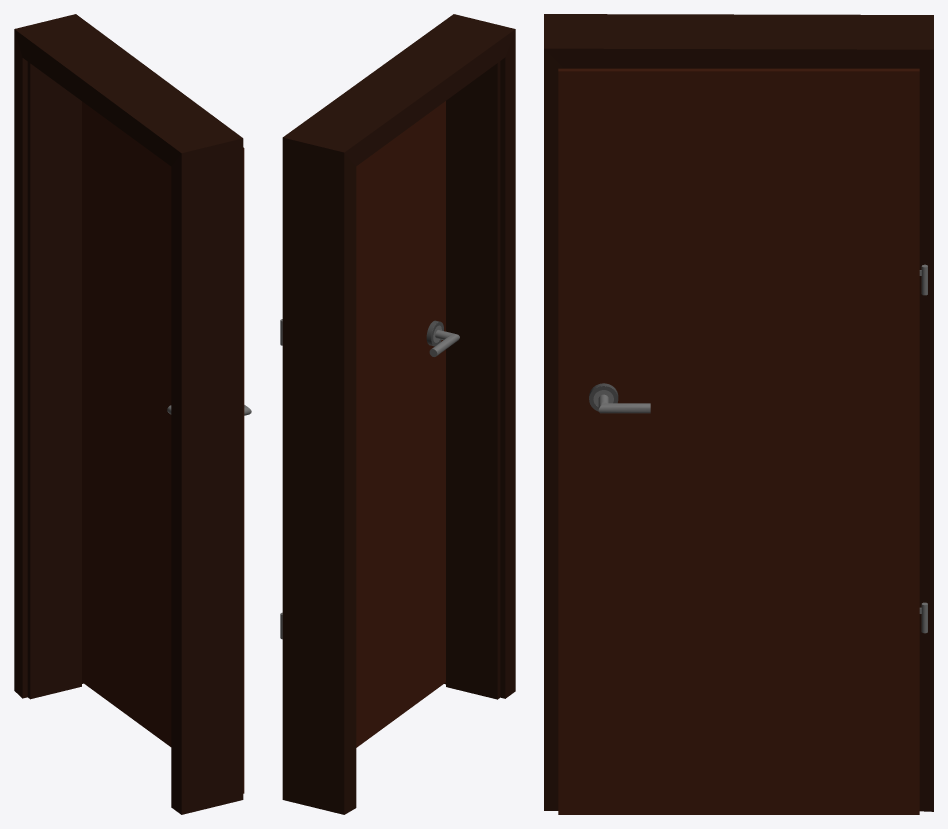
Rendered from door.obj.
The picture shows the model from 3 angles, left to right: view 1: azimuth 30°, elevation 25°; view 2: azimuth 150°, elevation 25°; view 3: azimuth 270°, elevation 25°; orthographic projection. The views are drawn at different scales.
Parts seen in each view (by area): view 1: Cube.001, Cube; view 2: Cube.001, Cube; view 3: Cube, Cube.001.
Boxes of the visible parts, <box> form: Cube.001: <box>14,14,243,814</box>; Cube: <box>82,101,244,793</box>; Cube.001: <box>282,14,515,814</box>; Cube: <box>356,101,445,747</box>; Cube: <box>558,68,919,814</box>; Cube.001: <box>544,14,933,811</box>.
Size of the model in its own units: 0.3039 by 2.05 by 0.95.
